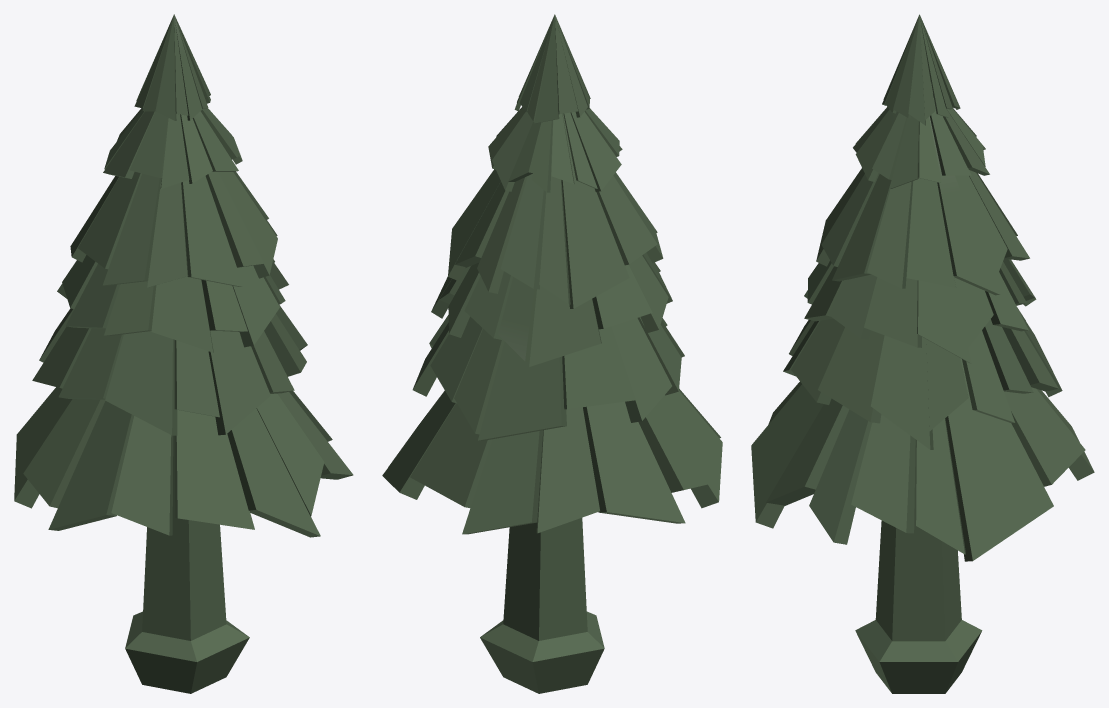
Rendered from evergre1 .FBX.
3 renders of one model, left to right at view 1: azimuth 30°, elevation 25°; view 2: azimuth 150°, elevation 25°; view 3: azimuth 270°, elevation 25°, orthographic.
Parts seen in each view (by area): view 1: evergreen1; view 2: evergreen1; view 3: evergreen1.
Part boxes in pixels (x1=…): evergreen1: x1=14, y1=14, x2=353, y2=693; evergreen1: x1=382, y1=14, x2=722, y2=693; evergreen1: x1=751, y1=14, x2=1094, y2=693.
Size of the model in its own units: 506 by 1101 by 519.
